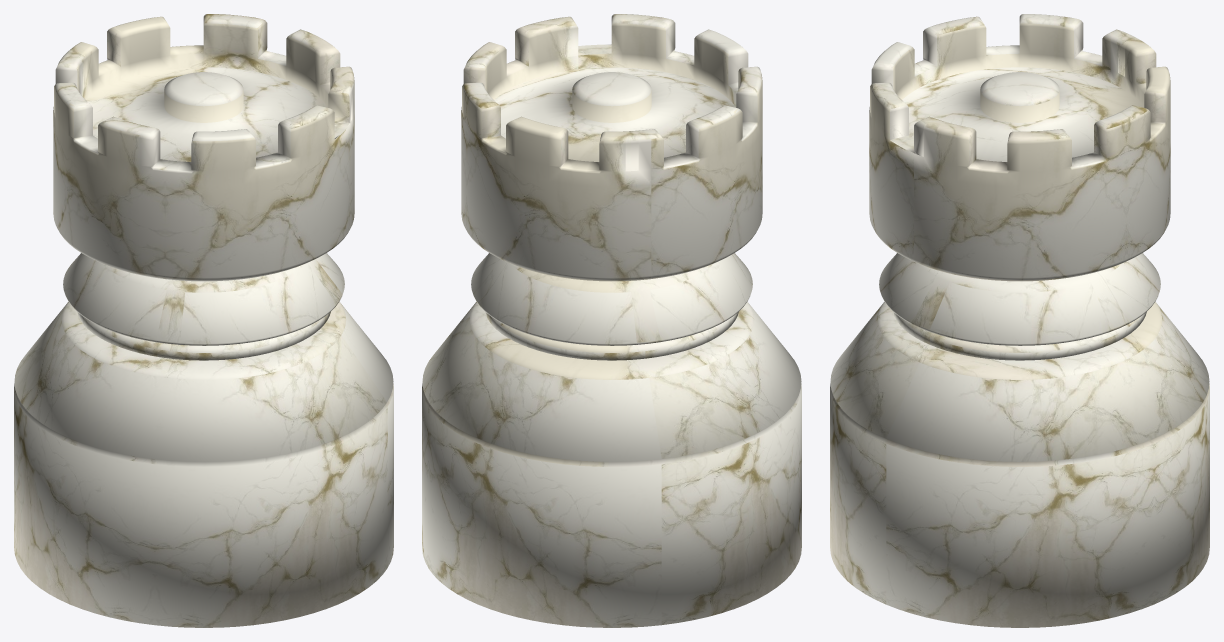
File: outlining.gltf
The picture shows the model from 3 angles, left to right: view 1: azimuth 30°, elevation 25°; view 2: azimuth 150°, elevation 25°; view 3: azimuth 270°, elevation 25°; orthographic projection.
Parts seen in each view (by area): view 1: RookWhite2.001; view 2: RookWhite2.001; view 3: RookWhite2.001.
Part boxes in pixels (x1,y1,x2,y2): RookWhite2.001: [14, 14, 393, 627]; RookWhite2.001: [422, 14, 801, 627]; RookWhite2.001: [830, 14, 1209, 627].
Bounding box in the file's own units: 0.0182 × 0.025 × 0.0182.
1 material, 1 textured.
